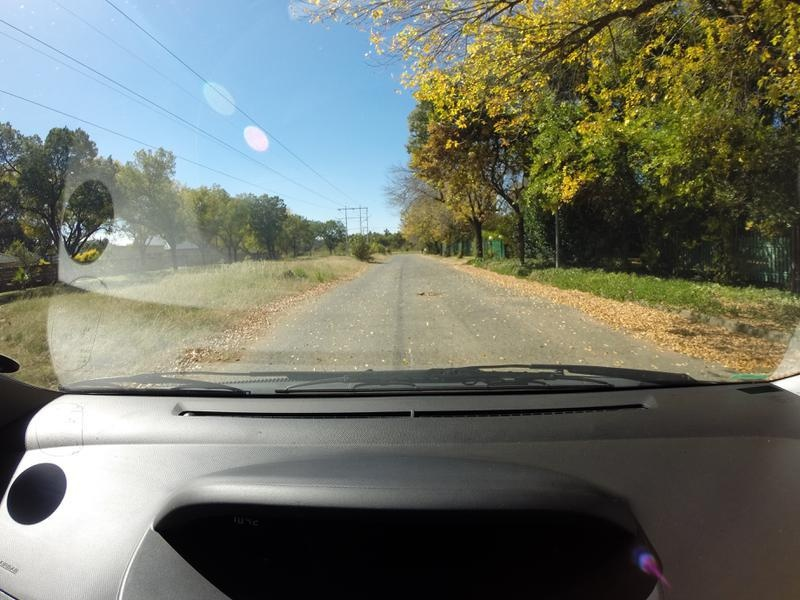pothole: (420, 292, 448, 299)
